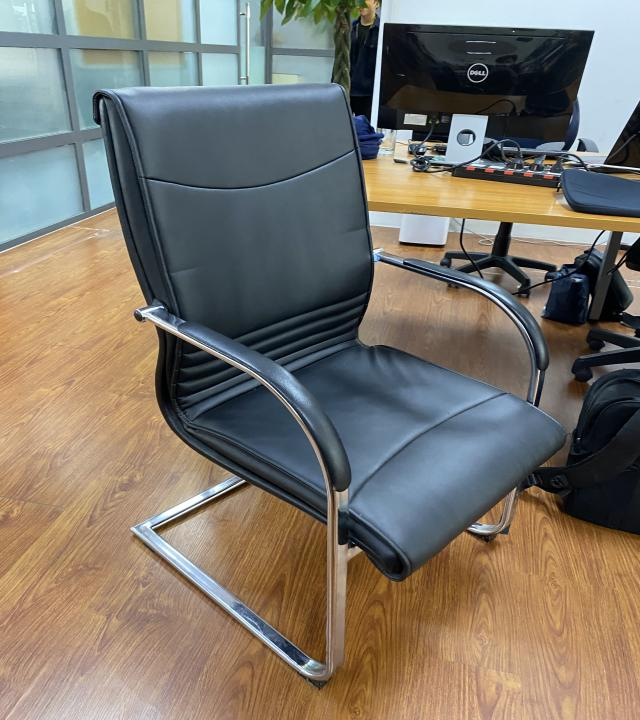SS_03: (88, 79, 570, 693)
